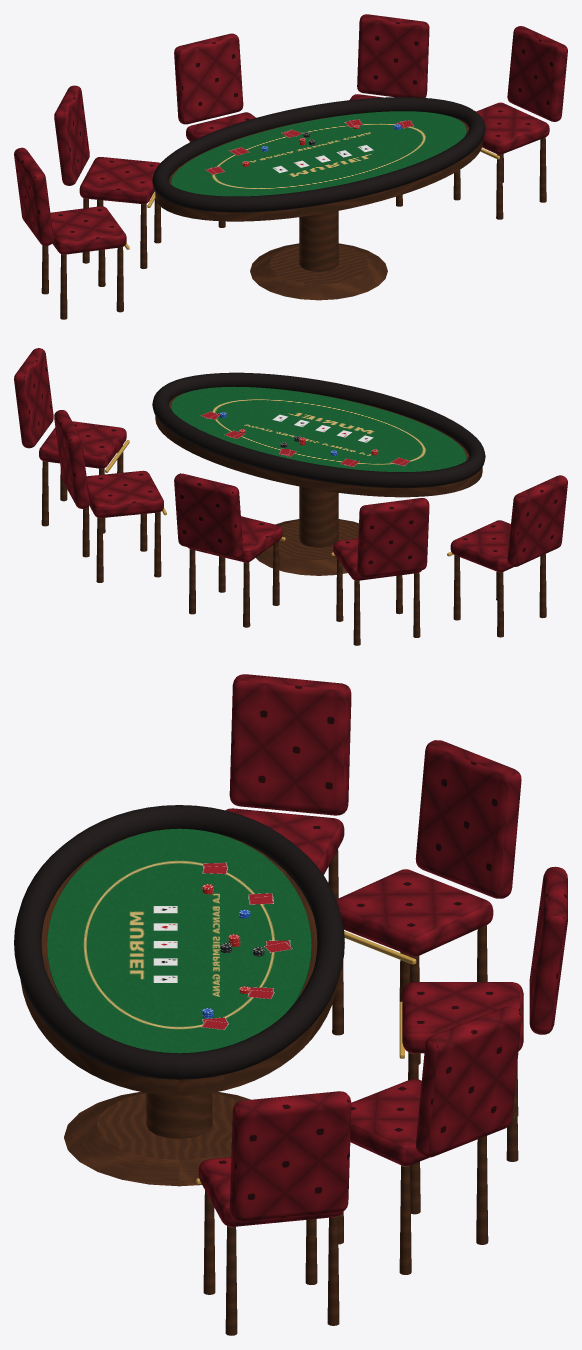
Rendered from mesa_poker.glb.
The picture shows the model from 3 angles, top to bottom: view 1: azimuth 30°, elevation 25°; view 2: azimuth 150°, elevation 25°; view 3: azimuth 270°, elevation 25°; orthographic projection. The views are drawn at different scales.
Visible parts, largest first — view 1: mesa_poker; view 2: mesa_poker; view 3: mesa_poker.
Part boxes in pixels (left/top/right/bottom): mesa_poker: left=14, top=14, right=567, bottom=319; mesa_poker: left=14, top=348, right=567, bottom=645; mesa_poker: left=14, top=674, right=567, bottom=1335.
Bounding box in the file's own units: 3.76 × 0.9969 × 2.01.
9 materials, 7 textured.
